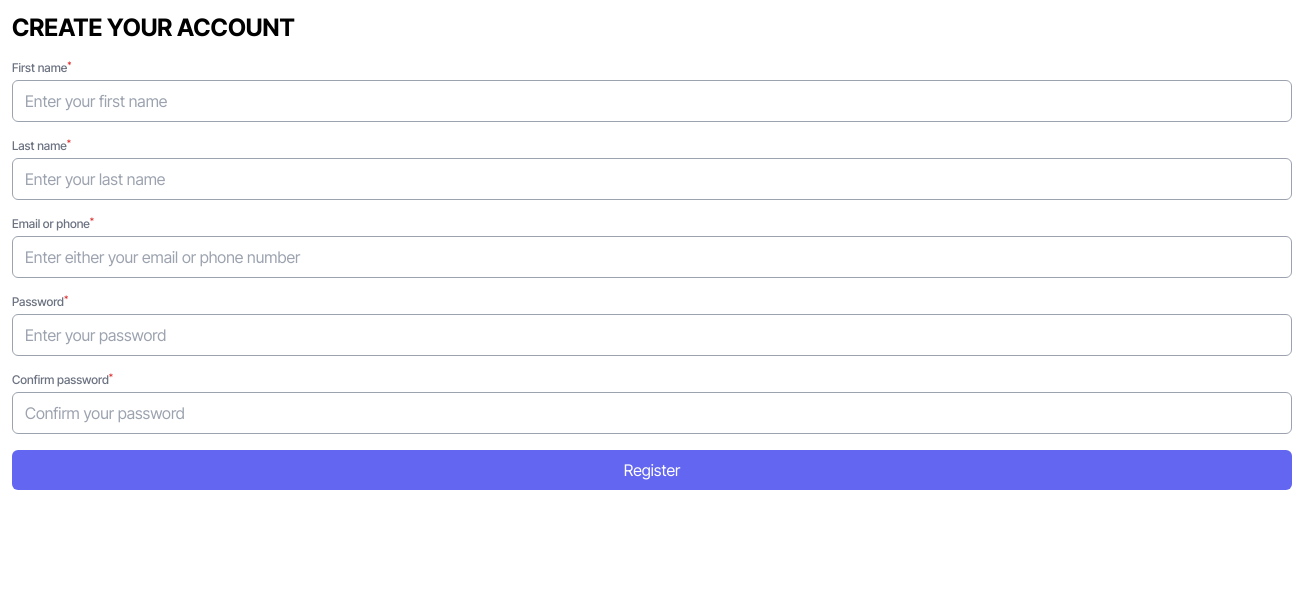
Test: RegisterForm › should display error messages when form is submitted with invalid data
Click the button with test id "submit-button" at (652, 470), box [12,450,1292,490]
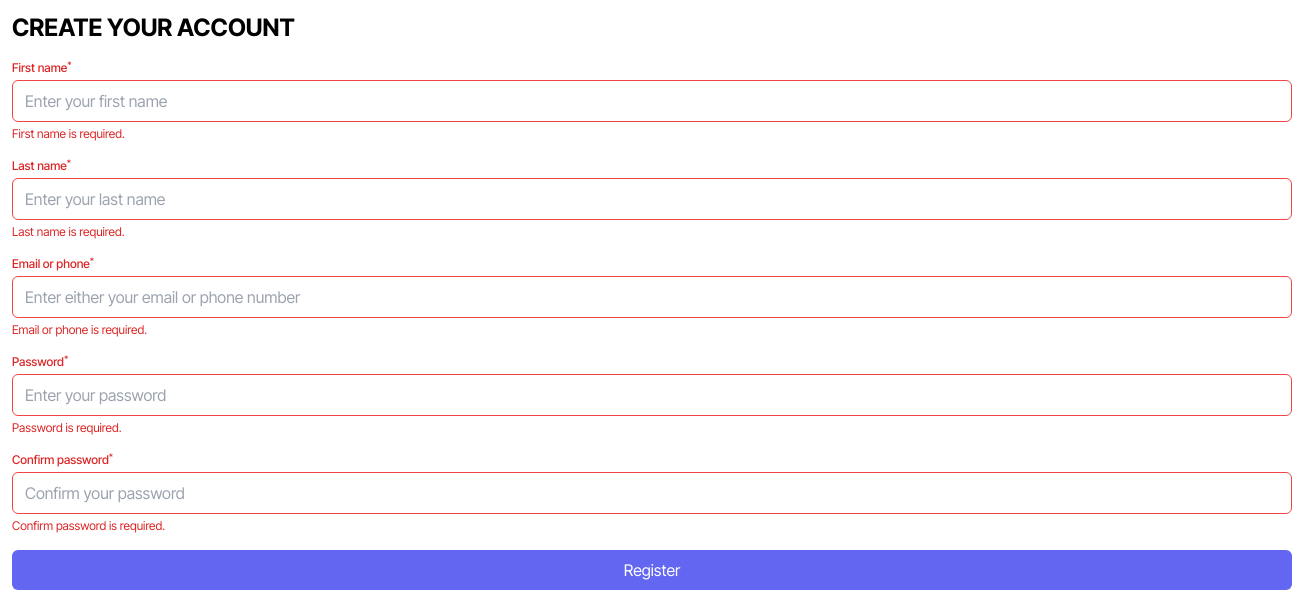
Now the text "First name is required." is shown, box [12,126,125,141]
Now the text "Last name is required." is shown, box [12,224,124,239]
Now the text "Email or phone is required." is shown, box [12,322,147,337]
